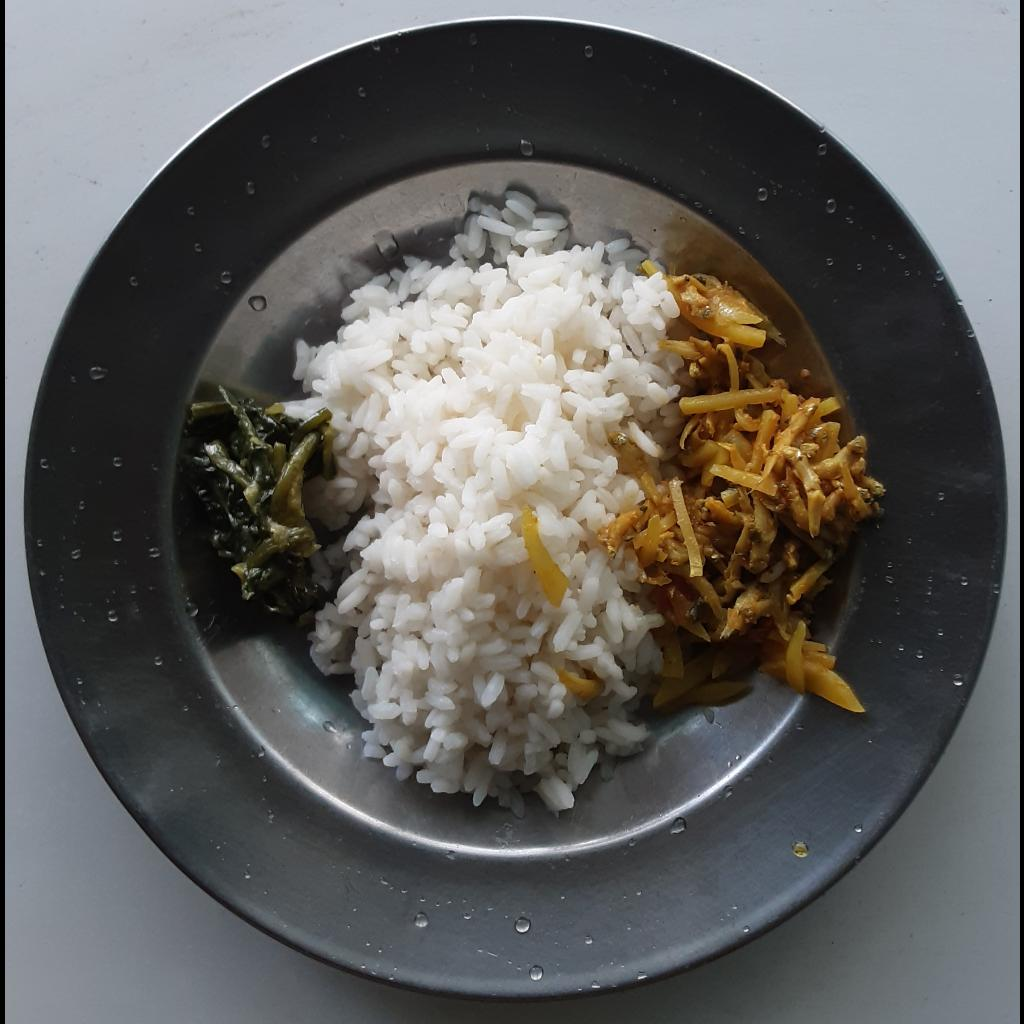potato: (632, 258, 884, 712)
rice: (289, 193, 676, 816)
shak: (180, 392, 335, 626)
